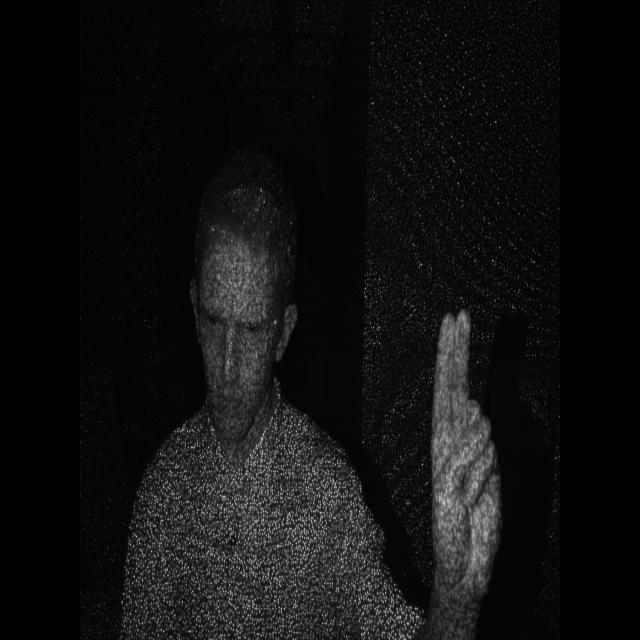U: (421, 291, 508, 599)
